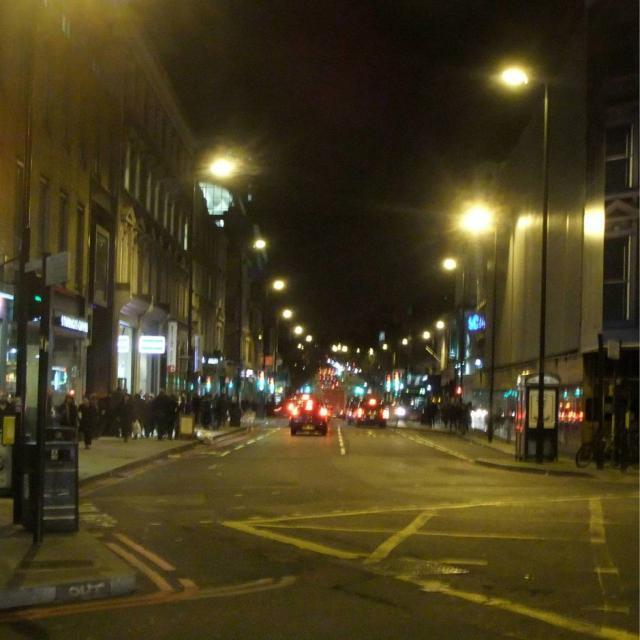off traffic light: (23, 270, 44, 321)
